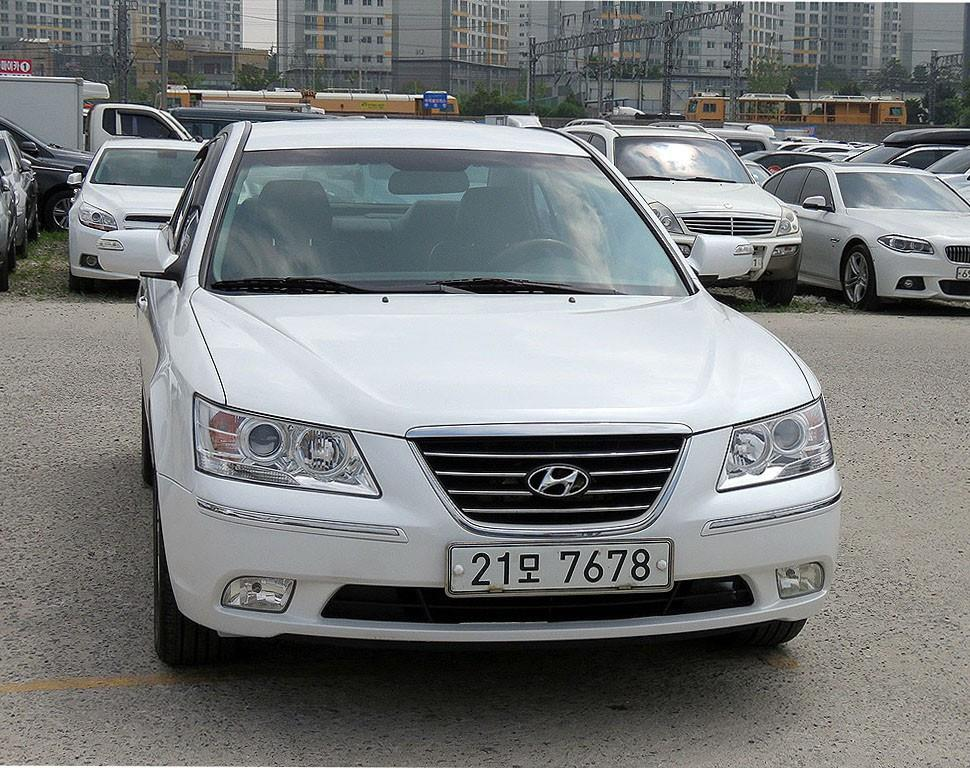plate: (450, 542, 669, 591)
